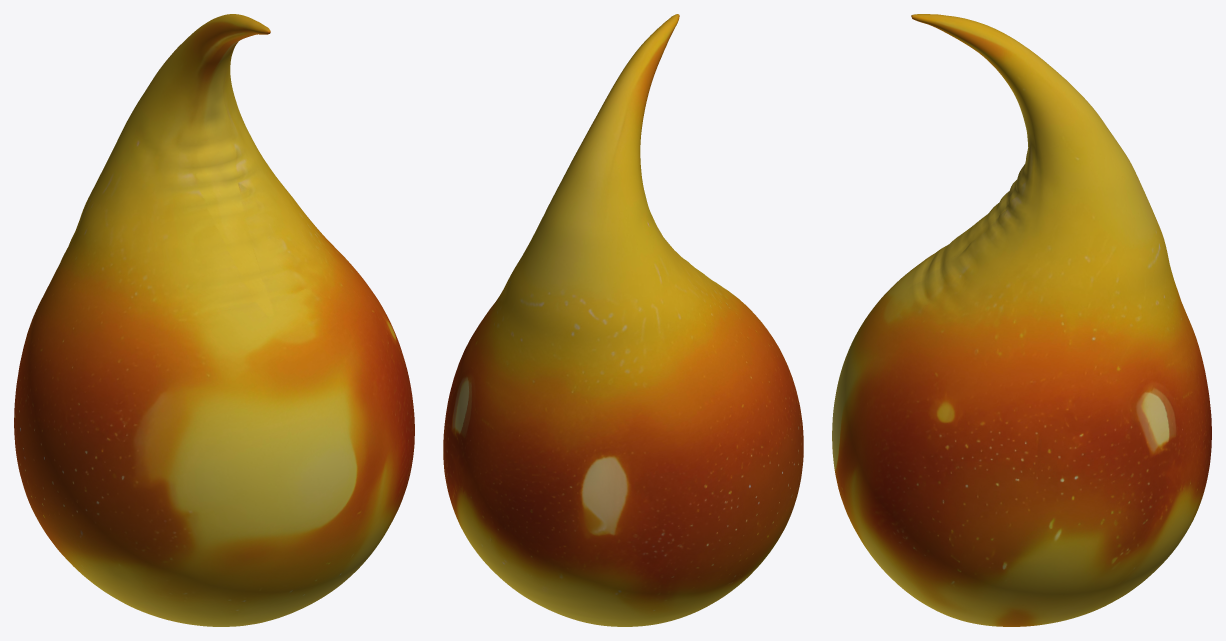
File: smallFire.fbx
3 renders of one model, left to right at view 1: azimuth 30°, elevation 25°; view 2: azimuth 150°, elevation 25°; view 3: azimuth 270°, elevation 25°, orthographic. The views are drawn at different scales.
Visible parts, largest first — view 1: tripo_node_ab0b9fdc; view 2: tripo_node_ab0b9fdc; view 3: tripo_node_ab0b9fdc.
Boxes of the visible parts, x1,y1,x2,y2 form: tripo_node_ab0b9fdc: (14, 14, 414, 626); tripo_node_ab0b9fdc: (443, 14, 803, 626); tripo_node_ab0b9fdc: (832, 14, 1211, 626).
Bounding box in the file's own units: 58.61 × 99.99 × 58.48.
Materials: 1 (1 with a texture image).
